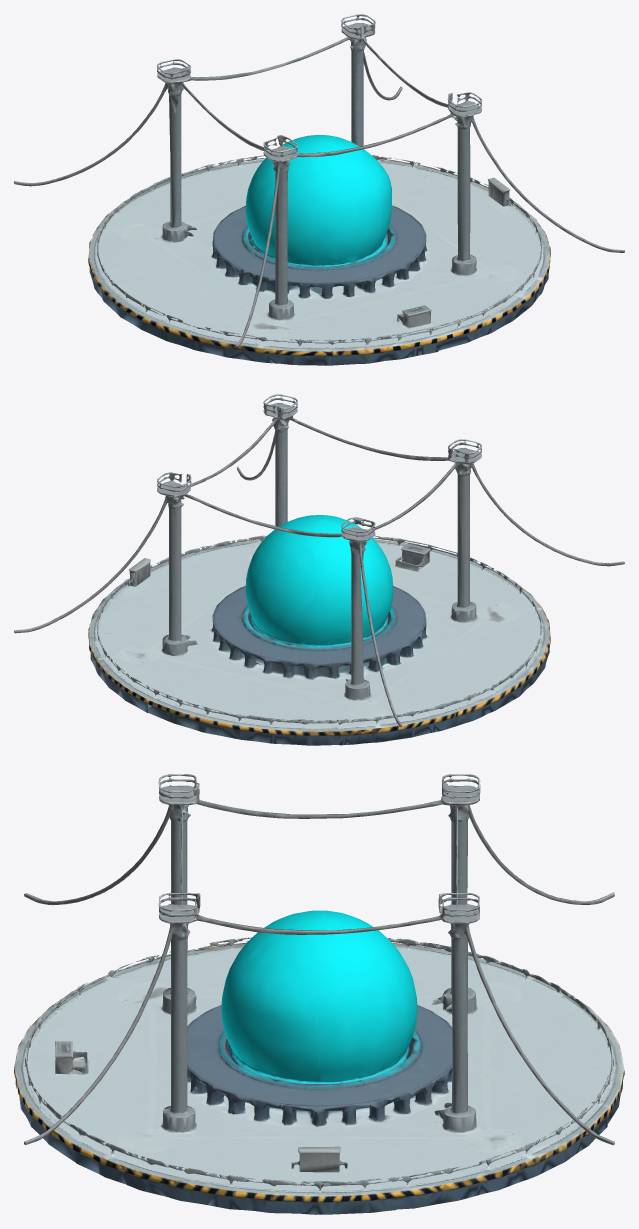
The model's file is big_reactor.fbx.
3 views of the same model, one above another, from view 1: azimuth 30°, elevation 25°; view 2: azimuth 150°, elevation 25°; view 3: azimuth 270°, elevation 25° (orthographic). The views are drawn at different scales.
Parts seen in each view (by area): view 1: big_reactor; view 2: big_reactor; view 3: big_reactor.
Boxes of the visible parts, left/top/right/bottom form: big_reactor: left=14, top=14, right=624, bottom=365; big_reactor: left=14, top=394, right=624, bottom=745; big_reactor: left=14, top=774, right=624, bottom=1214.
Bounding box in the file's own units: 1.9 × 0.8491 × 1.9.
Materials: 1 (1 with a texture image).
